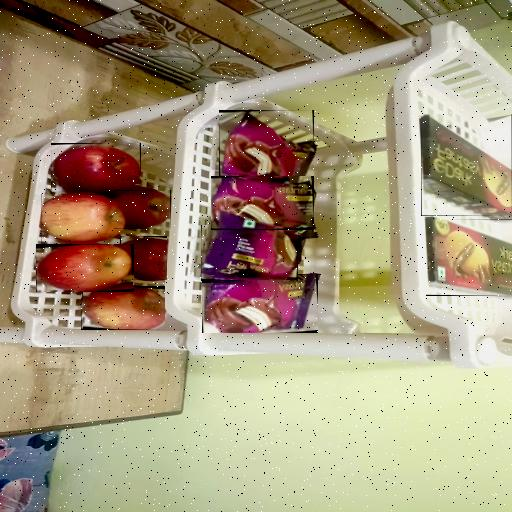Apple: (51, 143, 141, 195), (36, 244, 133, 292), (41, 194, 127, 244), (80, 286, 164, 330), (114, 190, 171, 229), (118, 236, 166, 280)
Choco Fills: (421, 114, 512, 216), (426, 219, 512, 296)
Choco Pie: (202, 274, 318, 333), (219, 110, 314, 182), (211, 176, 314, 230), (201, 225, 298, 281)
